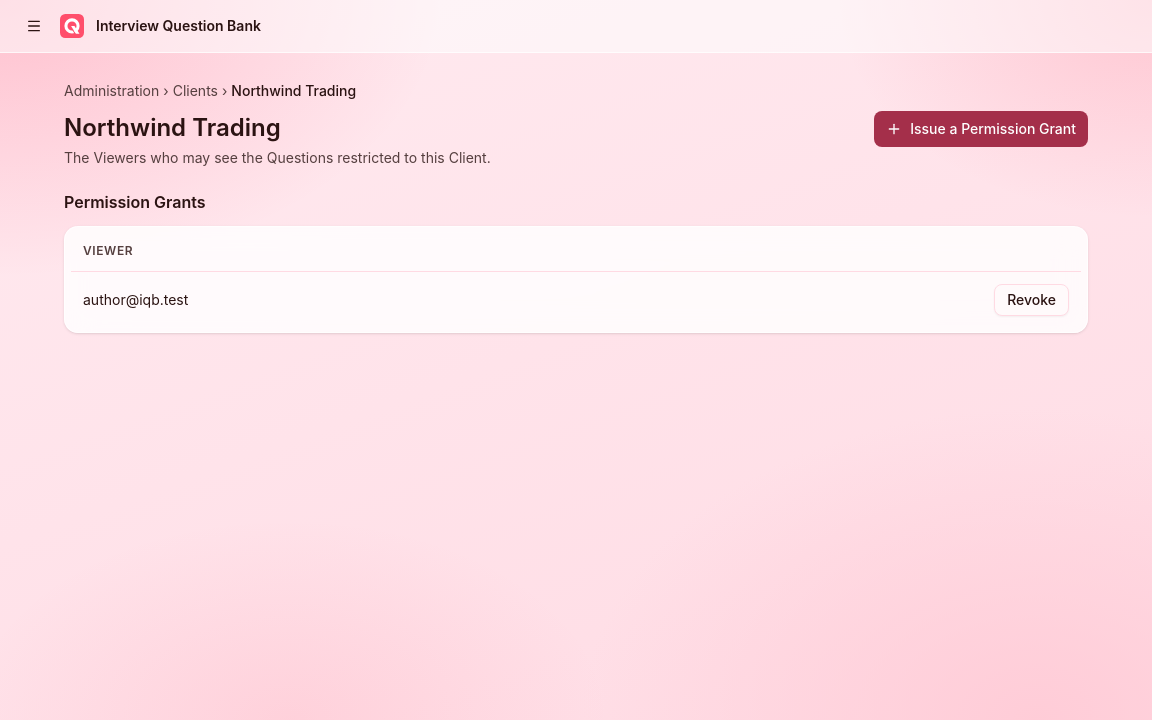
Scenario: issuing a Permission Grant from the administration console › reports the API's refusal in the dialog, which stays open
Click the button "Issue a Permission Grant". click: [981, 129]
box: [874, 111, 1088, 147]
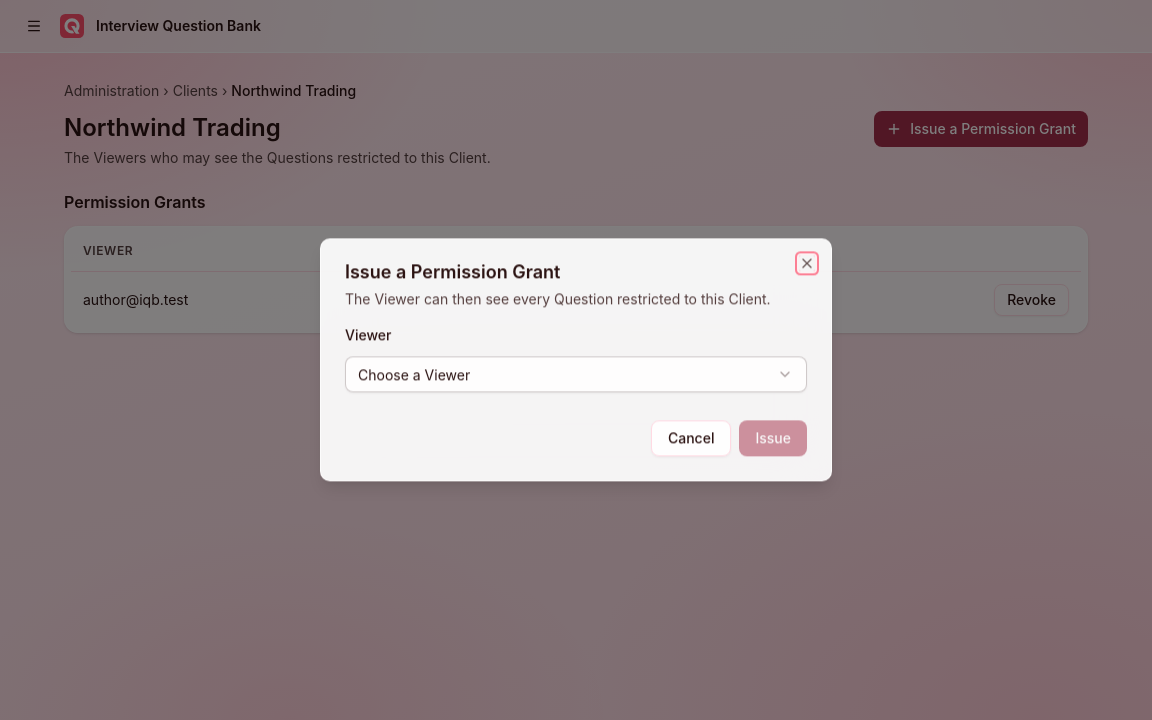
Select "reader@iqb.test" in the dropdown labelled "Viewer". click: [576, 375]
box: [345, 357, 807, 393]
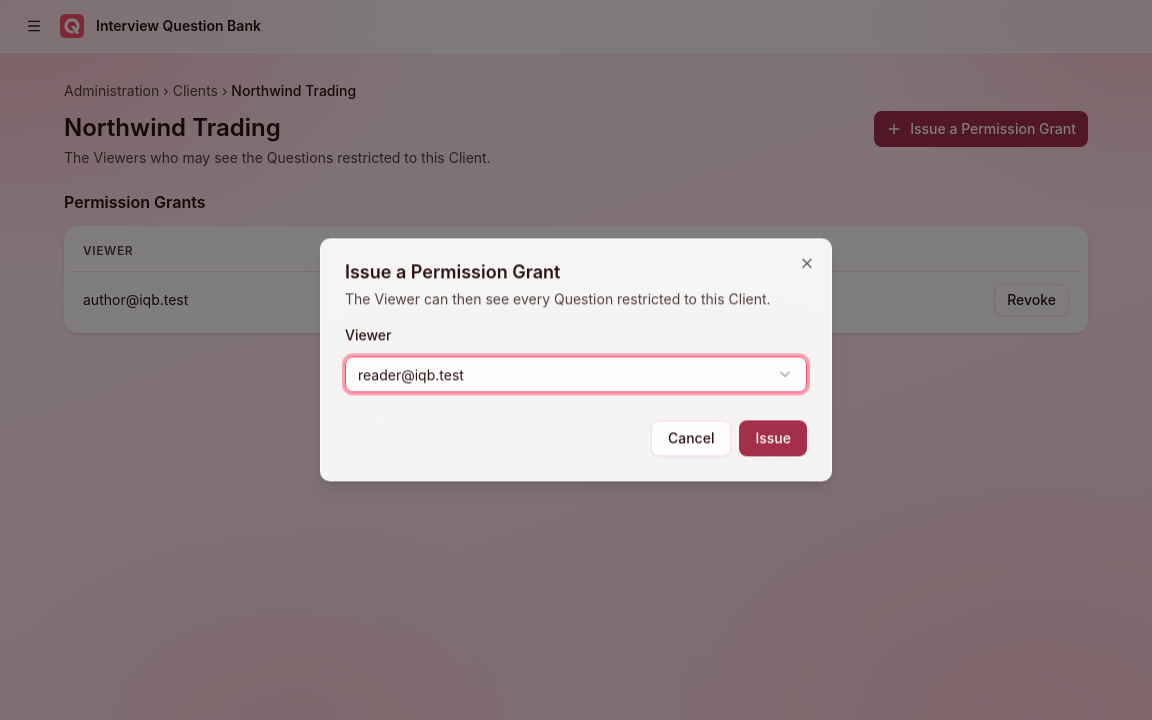
Click the button "Issue". click: [773, 439]
box: [740, 421, 807, 457]
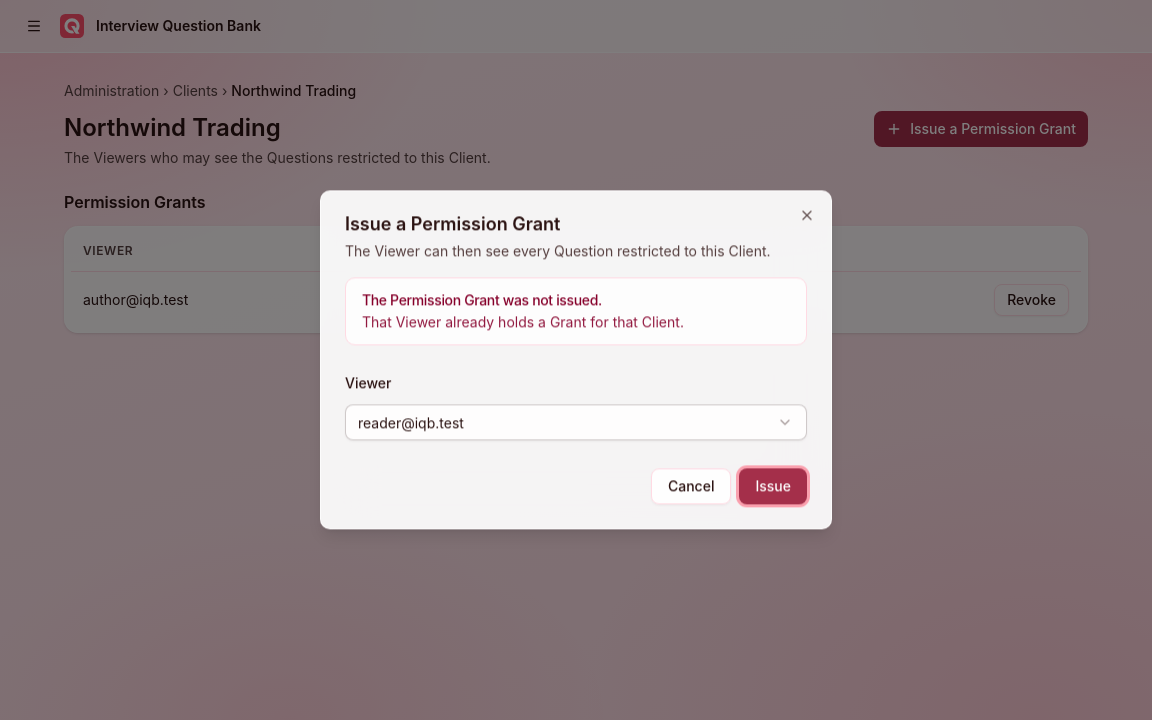
expect the text "The Permission Grant was not issued." is shown: met, box [362, 291, 602, 308]
expect the text "That Viewer already holds a Grant for that Client." is shown: met, box [362, 313, 684, 330]
